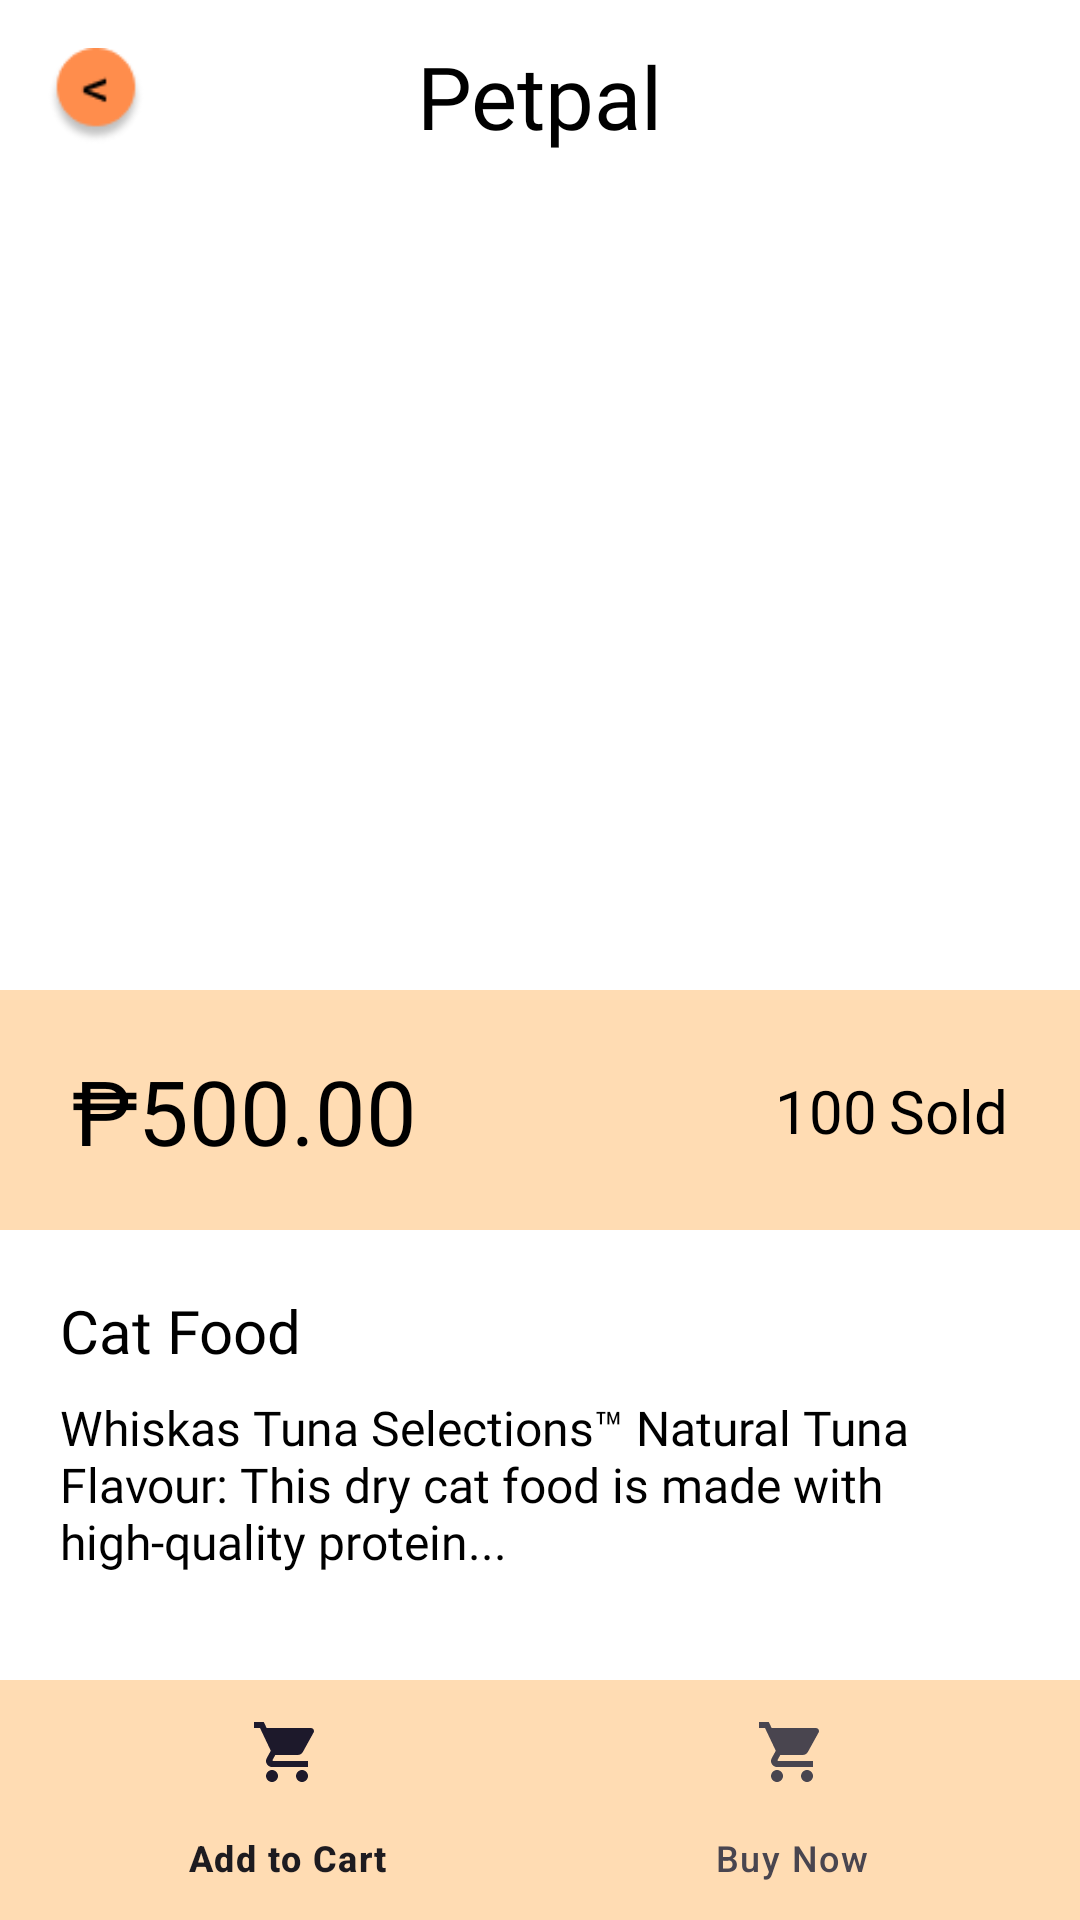

Named icons in this screenshot (1080w x 1920h) and their bounding boxes, (x1, y1, x2, y2):
back: (56, 48, 136, 136)
